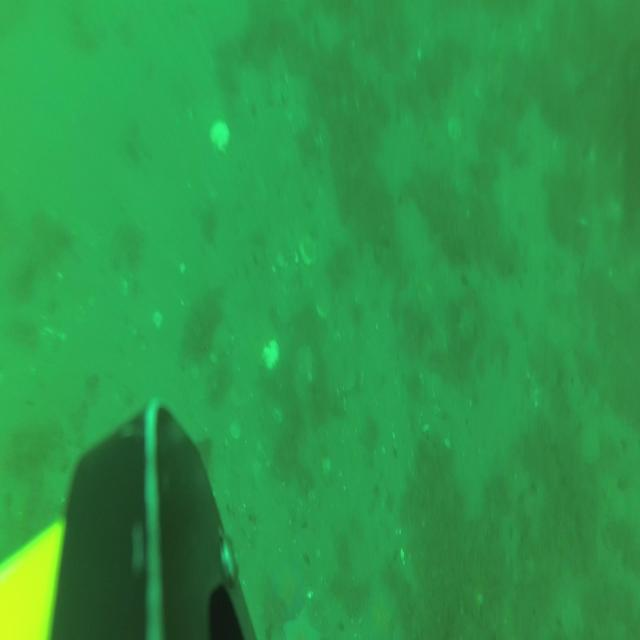scallop: (580, 424, 602, 468), (416, 274, 436, 318), (208, 120, 232, 152), (294, 344, 314, 382), (298, 231, 318, 268), (259, 339, 281, 372), (445, 115, 465, 144)
starfish: (268, 562, 304, 620), (283, 608, 321, 640)
